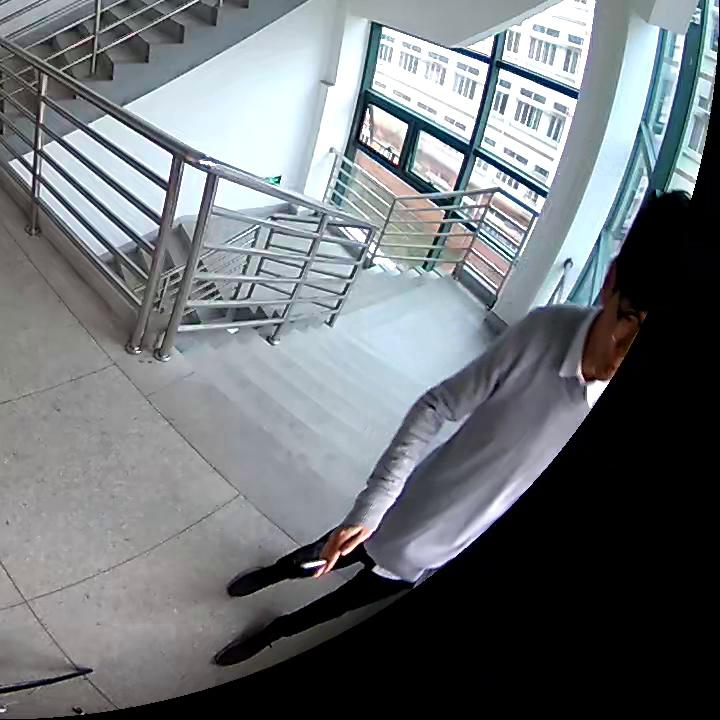handsmoke: (300, 524, 385, 576)
